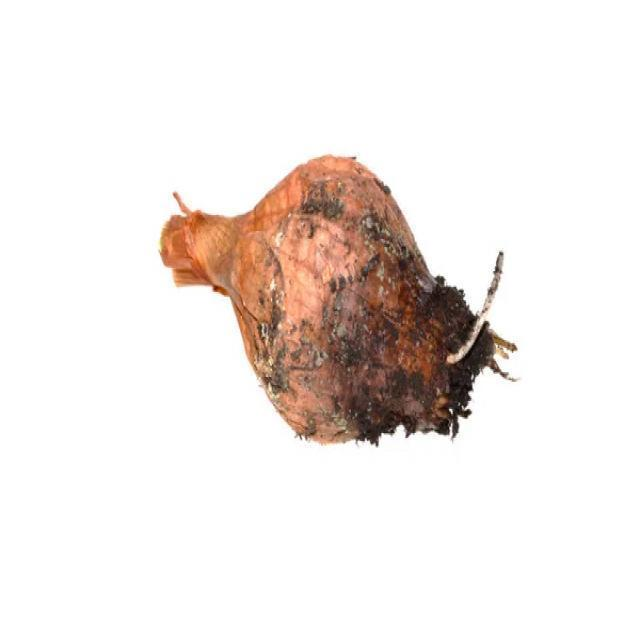Onion: (160, 152, 520, 447)
